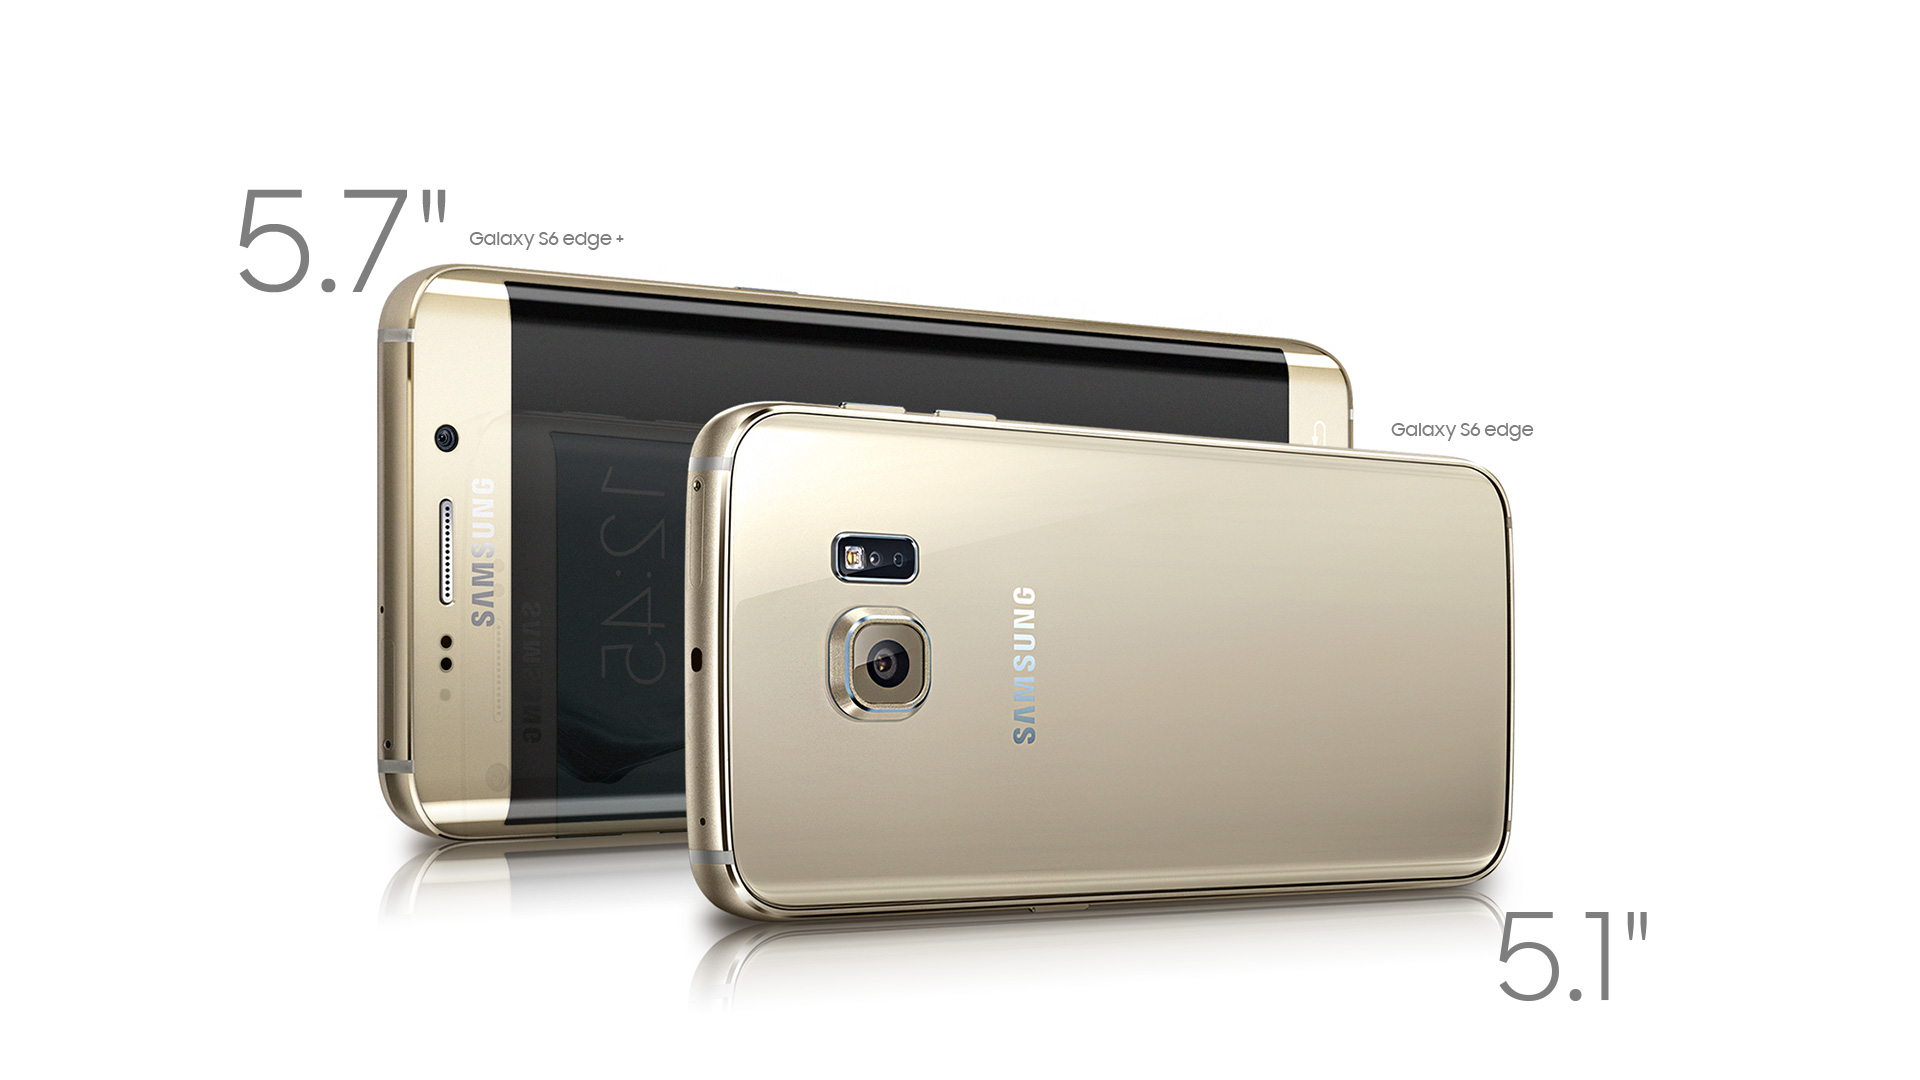smartphone: (375, 262, 1356, 847), (683, 400, 1515, 924)
